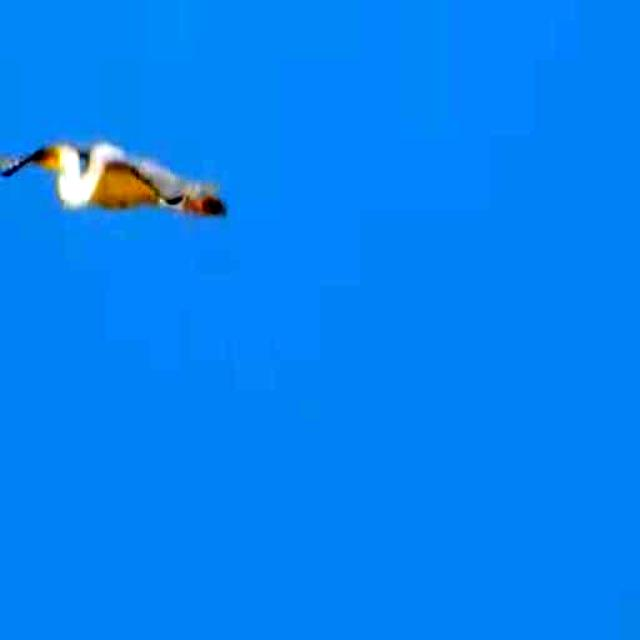airplane: (2, 131, 234, 232)
